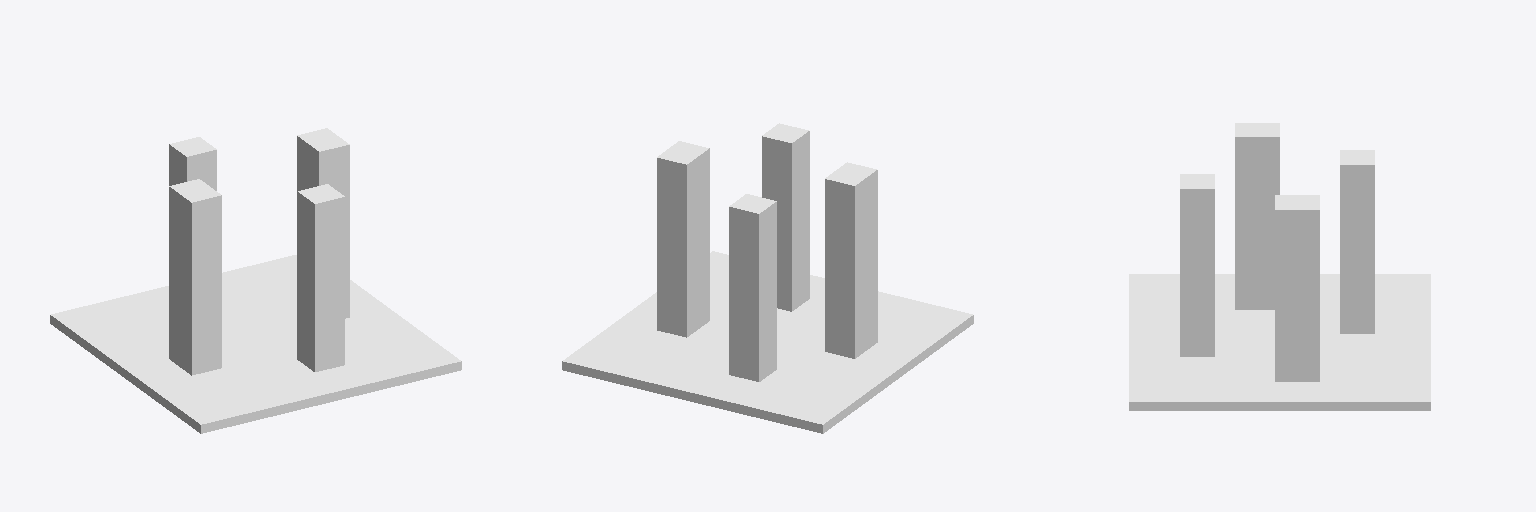
File: Ciudad.obj
3 views of the same model, side by side, from view 1: azimuth 30°, elevation 25°; view 2: azimuth 150°, elevation 25°; view 3: azimuth 270°, elevation 25° (orthographic).
Visible parts, largest first — view 1: Ciudad; view 2: Ciudad; view 3: Ciudad.
Boxes of the visible parts, <box> form: Ciudad: <box>50,128,461,433</box>; Ciudad: <box>562,123,973,433</box>; Ciudad: <box>1129,123,1430,410</box>.
Size of the model in its own units: 12 by 8 by 12.